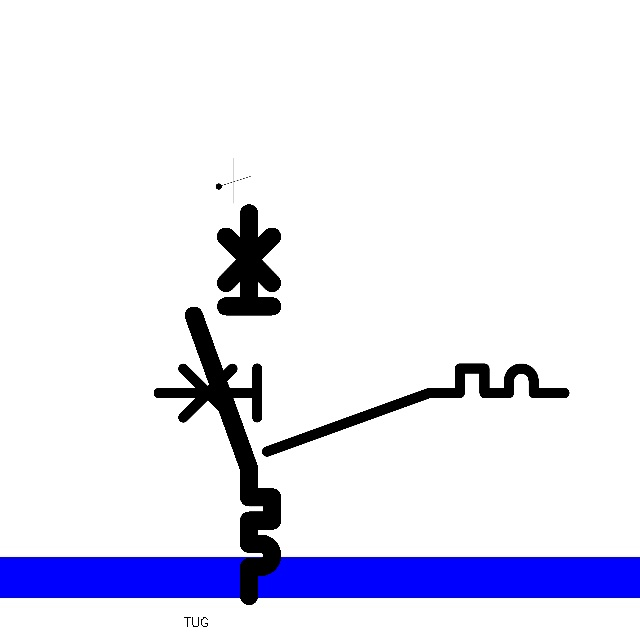interruptor_termomagnetico: (148, 358, 575, 462), (184, 203, 282, 605)
